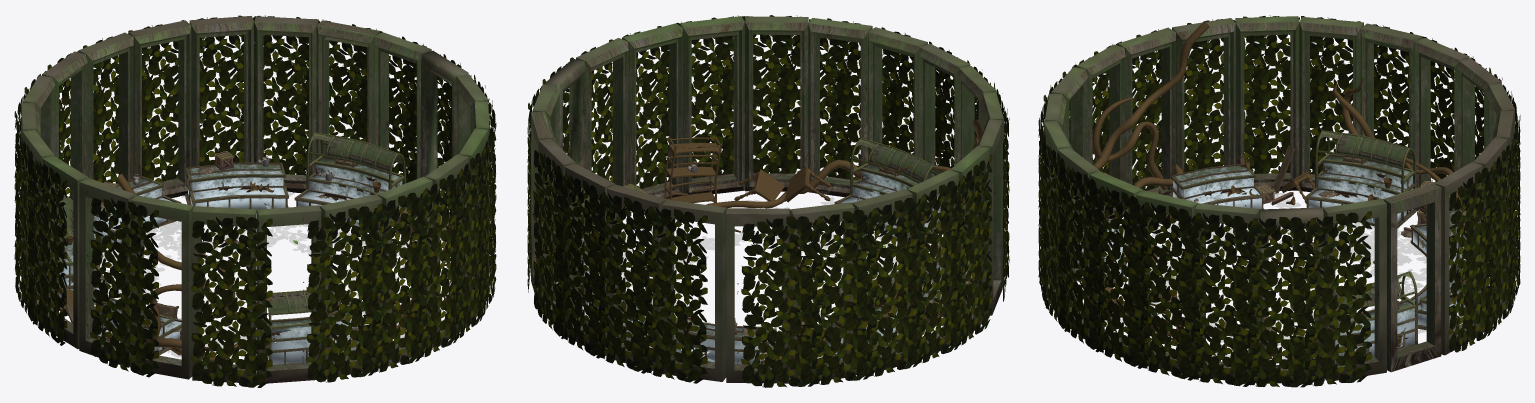
Rendered from piso2.fbx.
3 renders of one model, left to right at view 1: azimuth 30°, elevation 25°; view 2: azimuth 150°, elevation 25°; view 3: azimuth 270°, elevation 25°, orthographic.
Parts seen in each view (by area): view 1: Cube.017, Cube.036, Cube.018, Cube.006, Cube.019, Cube.002, NurbsPath.003, Cube.008, Cube.007, NurbsPath.002, Cube.014, Cube.005 (+6 smaller); view 2: Cube.017, Cube.036, estanteria.003, Cube.002, NurbsPath.002, Enredaderas.016, Cube.014, Cube.003, MesaRota.002, Cube.005, MesaRota.003, Cube.016; view 3: Cube.017, Cube.036, Cube.010, Cube.013, Cube.012, Enredaderas.014, NurbsPath.004, Enredaderas.015, Cube.015, Cube.011, Cube.006, Enredaderas.018 (+4 smaller).
Boxes of the visible parts, box(x1,y1,x2,y2) form: Cube.017: box(14, 15, 496, 387); Cube.036: box(21, 16, 489, 383); Cube.018: box(188, 164, 285, 209); Cube.006: box(298, 157, 402, 226); Cube.019: box(185, 162, 288, 212); Cube.002: box(256, 312, 359, 364); NurbsPath.003: box(312, 133, 402, 171); Cube.008: box(294, 156, 404, 232); Cube.007: box(306, 132, 405, 208); NurbsPath.002: box(269, 284, 348, 313); Cube.014: box(94, 178, 172, 243); Cube.005: box(256, 315, 358, 363); Cube.017: box(527, 15, 1009, 387); Cube.036: box(531, 16, 1003, 383); estanteria.003: box(664, 136, 721, 203); Cube.002: box(841, 164, 940, 237); NurbsPath.002: box(857, 140, 939, 182); Enredaderas.016: box(706, 159, 867, 232); Cube.014: box(674, 322, 773, 364); Cube.003: box(850, 138, 943, 227); MesaRota.002: box(734, 169, 784, 201); Cube.005: box(834, 163, 941, 241); MesaRota.003: box(784, 165, 830, 202); Cube.016: box(675, 318, 776, 364); Cube.017: box(1038, 15, 1520, 387); Cube.036: box(1044, 16, 1514, 383); Cube.010: box(1308, 155, 1413, 223); Cube.013: box(1173, 165, 1261, 209); Cube.012: box(1305, 153, 1416, 228); Enredaderas.014: box(1093, 21, 1209, 208); NurbsPath.004: box(1320, 132, 1412, 167); Enredaderas.015: box(1092, 97, 1167, 189); Cube.015: box(1171, 163, 1264, 209); Cube.011: box(1315, 130, 1416, 220); Cube.006: box(1335, 301, 1415, 362); Enredaderas.018: box(1332, 81, 1454, 208).
Bounding box in the file's own units: 5542 × 2373 × 5527.
